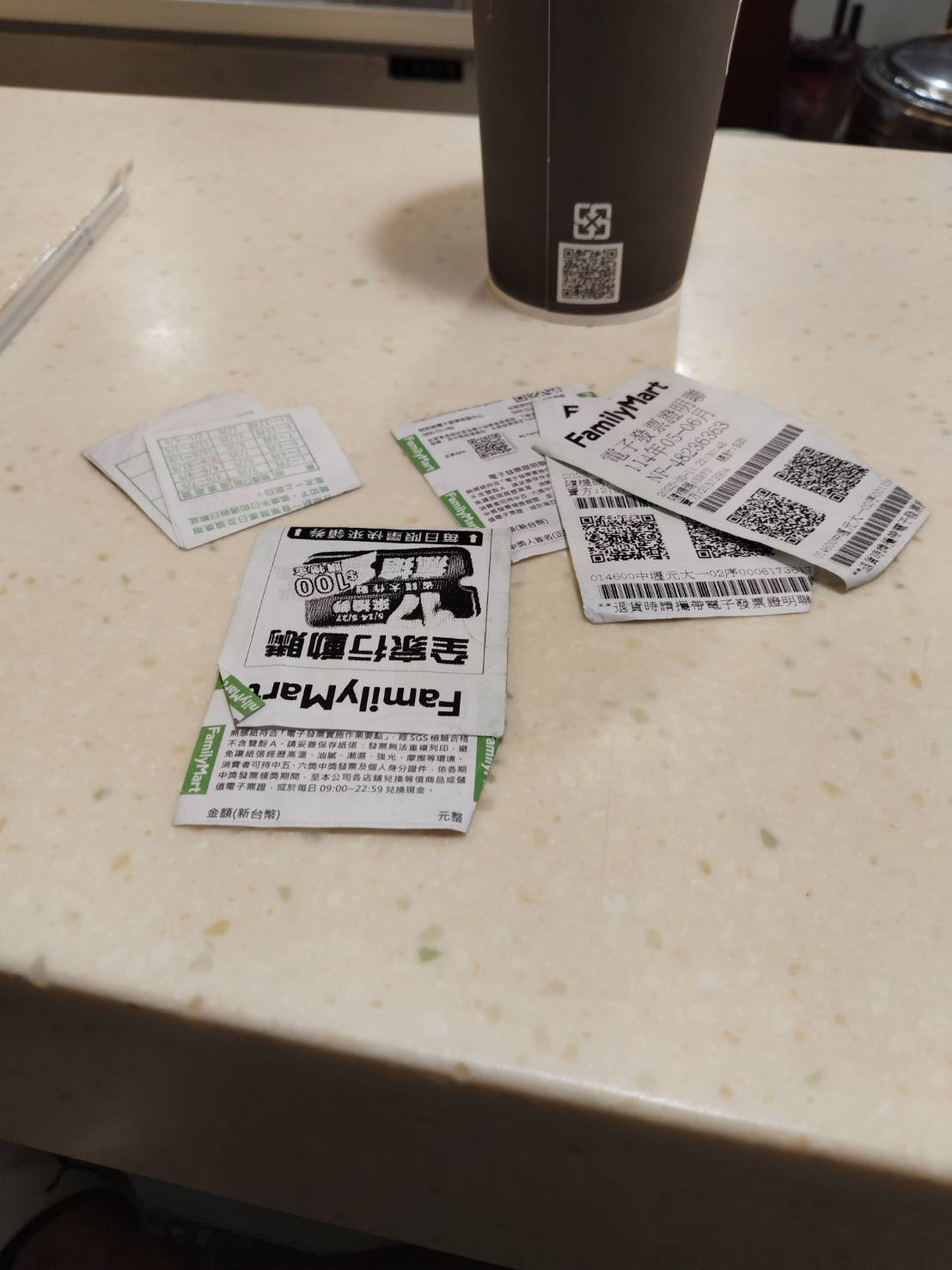paper: (395, 344, 931, 653), (418, 0, 828, 347), (169, 482, 507, 854), (66, 347, 369, 568)
plastic: (0, 123, 178, 439)
